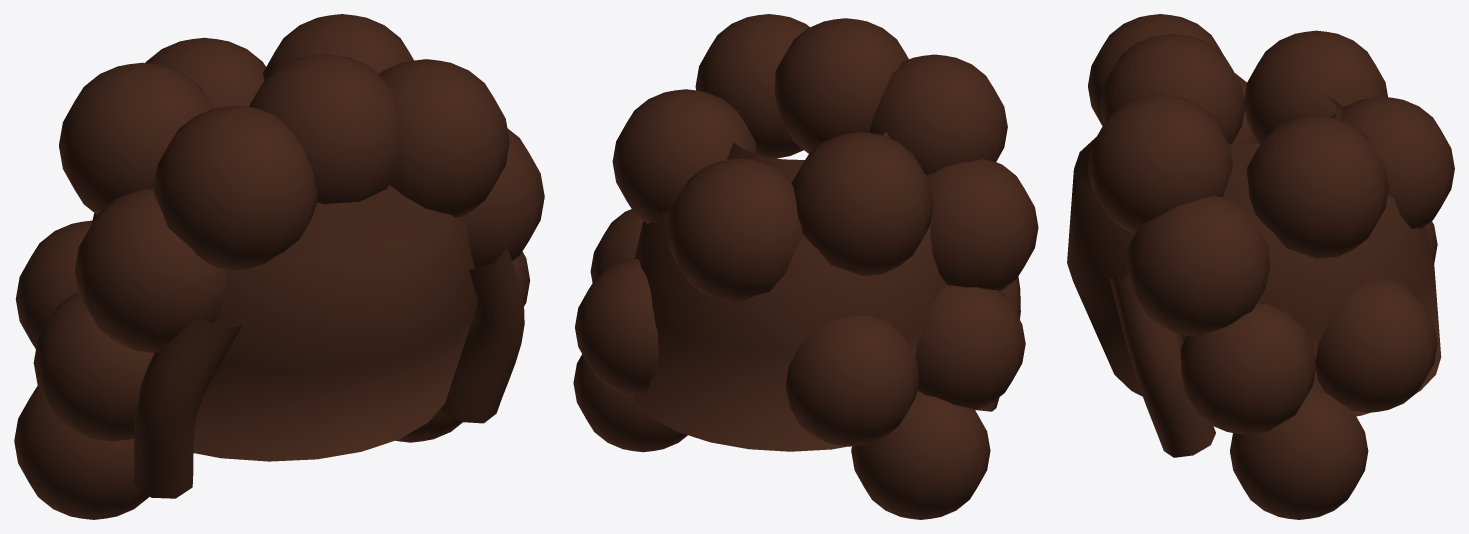
Rendered from curly.glb.
The picture shows the model from 3 angles, left to right: view 1: azimuth 30°, elevation 25°; view 2: azimuth 150°, elevation 25°; view 3: azimuth 270°, elevation 25°; orthographic projection. The views are drawn at different scales.
Visible parts, largest first — view 1: hair_cap, curl_top_1, curl_top_3, curl_top_0, curl_top_2, curl_top_5, curl_low_0, temple_lock_-1, curl_low_4, temple_lock_1, curl_top_4, curl_top_6 (+3 smaller); view 2: hair_cap, curl_top_5, curl_top_7, curl_low_2, curl_top_0, curl_low_4, curl_top_3, curl_top_1, curl_top_6, curl_low_0, curl_top_2, curl_low_3 (+3 smaller); view 3: hair_cap, curl_top_6, curl_top_4, curl_top_2, curl_low_1, curl_low_5, curl_low_3, curl_top_5, curl_top_0, curl_top_7, temple_lock_1, curl_top_1 (+1 smaller).
Part boxes in pixels (left/top/right/bottom): hair_cap: left=91, top=183, right=477, bottom=461; curl_top_1: left=153, top=105, right=317, bottom=270; curl_top_3: left=74, top=188, right=226, bottom=353; curl_top_0: left=249, top=53, right=400, bottom=204; curl_top_2: left=379, top=59, right=509, bottom=217; curl_top_5: left=59, top=62, right=213, bottom=214; curl_low_0: left=33, top=292, right=154, bottom=441; temple_lock_-1: left=133, top=312, right=241, bottom=498; curl_low_4: left=14, top=385, right=149, bottom=519; temple_lock_1: left=440, top=247, right=524, bottom=423; curl_top_4: left=465, top=128, right=544, bottom=268; curl_top_6: left=263, top=14, right=413, bottom=80; hair_cap: left=633, top=105, right=946, bottom=451; curl_top_5: left=791, top=132, right=933, bottom=275; curl_top_7: left=667, top=158, right=802, bottom=301; curl_low_2: left=785, top=315, right=919, bottom=446; curl_top_0: left=775, top=18, right=908, bottom=153; curl_low_4: left=851, top=391, right=990, bottom=519; curl_top_3: left=926, top=159, right=1038, bottom=290; curl_top_1: left=869, top=54, right=1007, bottom=174; curl_top_6: left=612, top=89, right=757, bottom=223; curl_low_0: left=915, top=285, right=1025, bottom=410; curl_top_2: left=695, top=14, right=809, bottom=158; curl_low_3: left=575, top=259, right=658, bottom=395; hair_cap: left=1067, top=94, right=1441, bottom=416; curl_top_6: left=1246, top=115, right=1388, bottom=258; curl_top_4: left=1126, top=195, right=1270, bottom=336; curl_top_2: left=1088, top=94, right=1232, bottom=233; curl_low_1: left=1180, top=303, right=1316, bottom=434; curl_low_5: left=1230, top=390, right=1368, bottom=519; curl_low_3: left=1315, top=279, right=1437, bottom=412; curl_top_5: left=1244, top=30, right=1387, bottom=143; curl_top_0: left=1100, top=34, right=1245, bottom=143; curl_top_7: left=1331, top=96, right=1454, bottom=229; temple_lock_1: left=1109, top=276, right=1215, bottom=457; curl_top_1: left=1088, top=14, right=1222, bottom=126.
Bounding box in the file's own units: 0.276 × 0.259 × 0.224.
